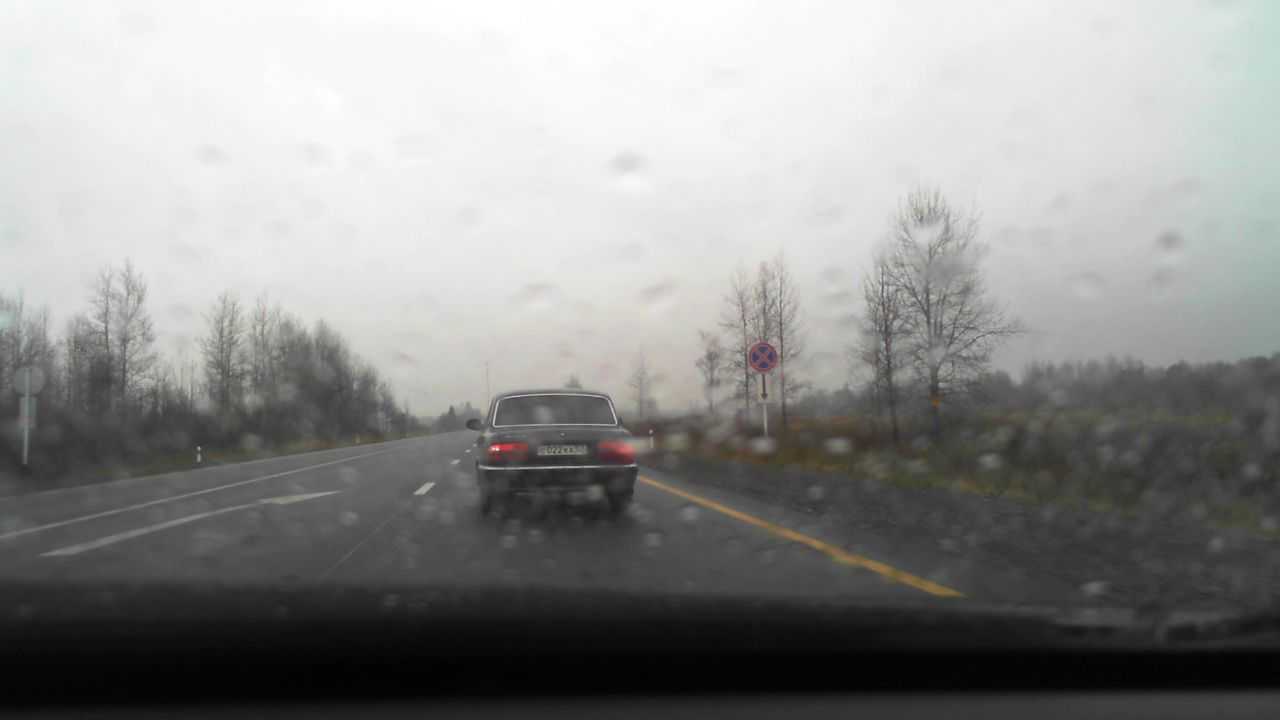No Parking: (748, 342, 777, 372)
